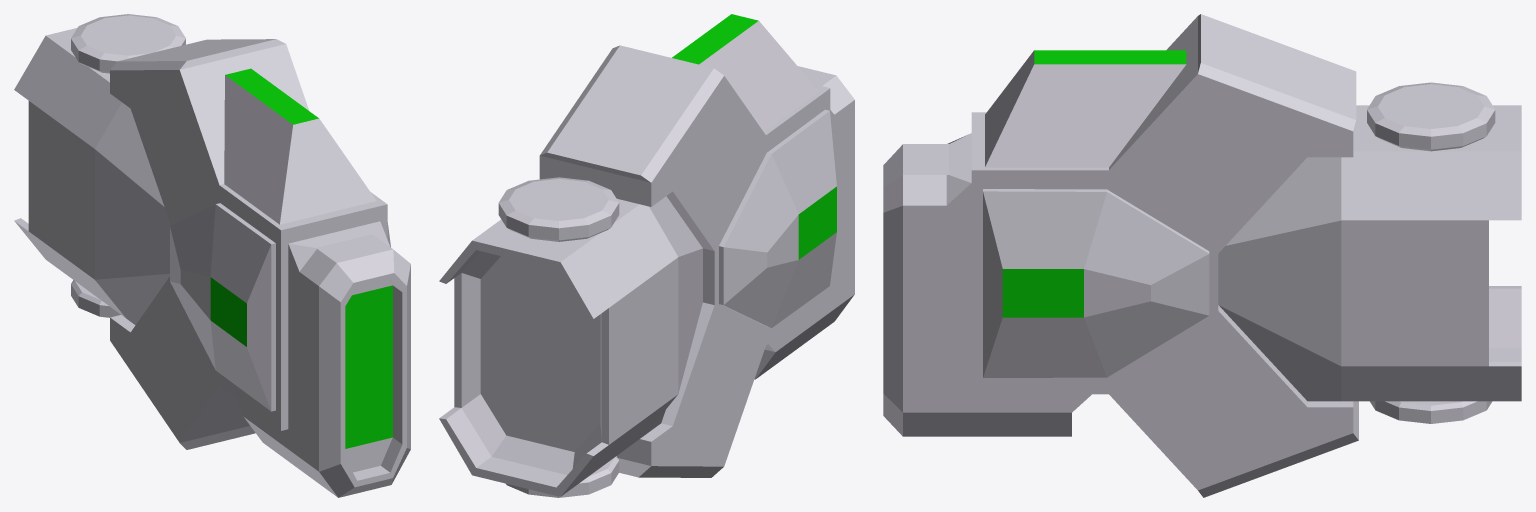
File: eng.body.Y-block.fbx
3 renders of one model, left to right at view 1: azimuth 30°, elevation 25°; view 2: azimuth 150°, elevation 25°; view 3: azimuth 270°, elevation 25°, orthographic. The views are drawn at different scales.
Visible parts, largest first — view 1: eng.body.Y-block; view 2: eng.body.Y-block; view 3: eng.body.Y-block.
Part boxes in pixels (<box>): eng.body.Y-block: <box>14,14,410,497</box>; eng.body.Y-block: <box>439,14,854,497</box>; eng.body.Y-block: <box>883,14,1521,497</box>.
Bounding box in the file's own units: 1.1 × 2.78 × 3.69.
